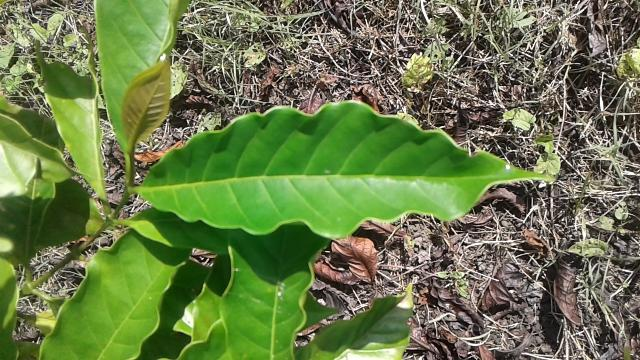healthy: (138, 101, 551, 238)
